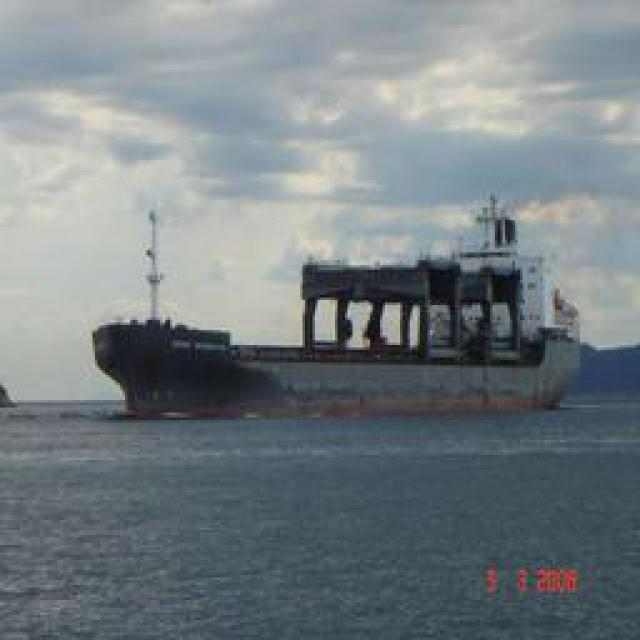Ship: (92, 320, 600, 413)
